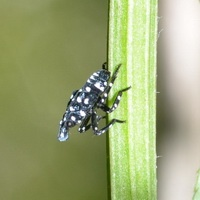insect: (58, 64, 130, 140)
